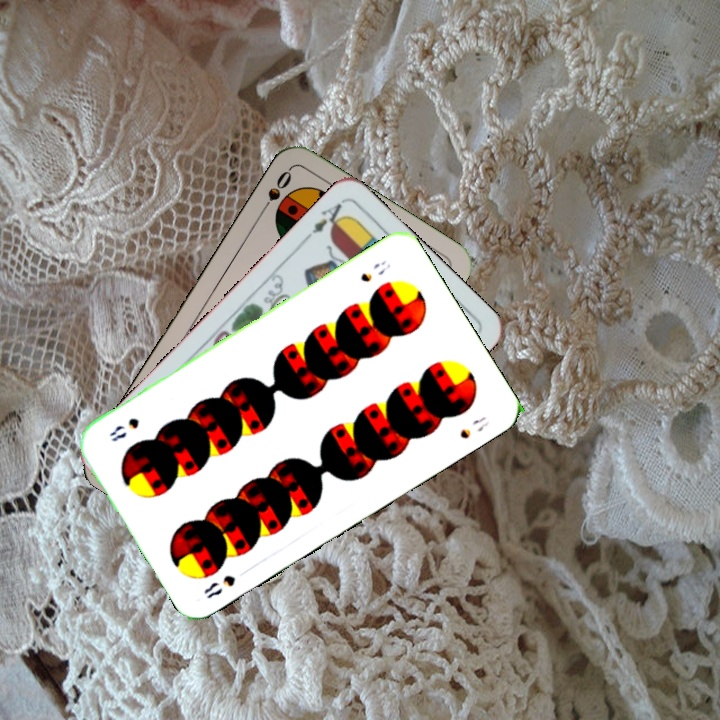EA: (300, 199, 349, 244)
S8: (199, 570, 238, 602), (356, 255, 393, 285)
SO: (255, 165, 295, 218)
